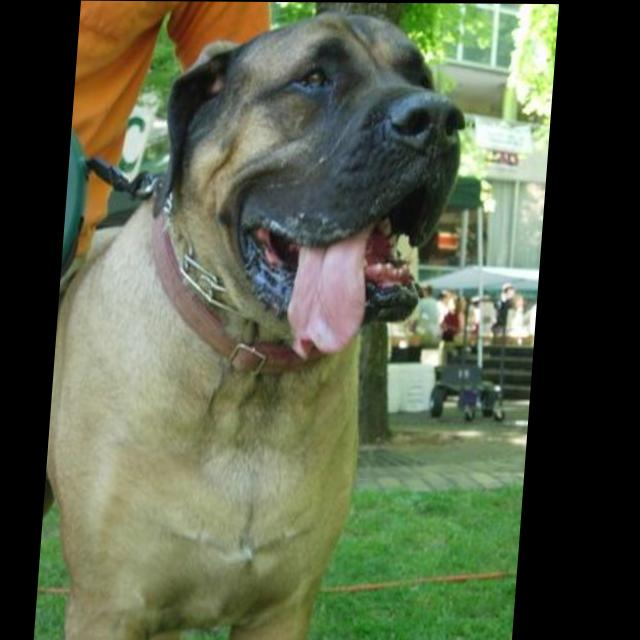bullmastiff: (45, 7, 477, 640)
person: (45, 1, 274, 640)
